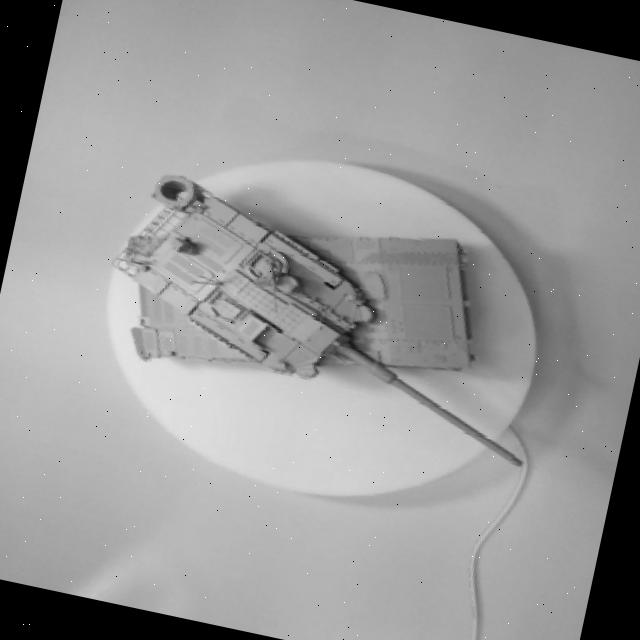korea tank: (56, 108, 568, 560)
